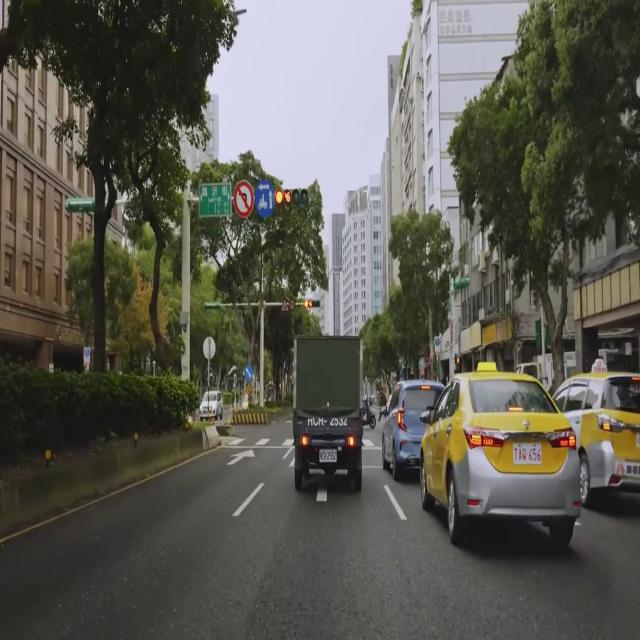red light: (274, 188, 309, 204), (304, 300, 320, 308)
